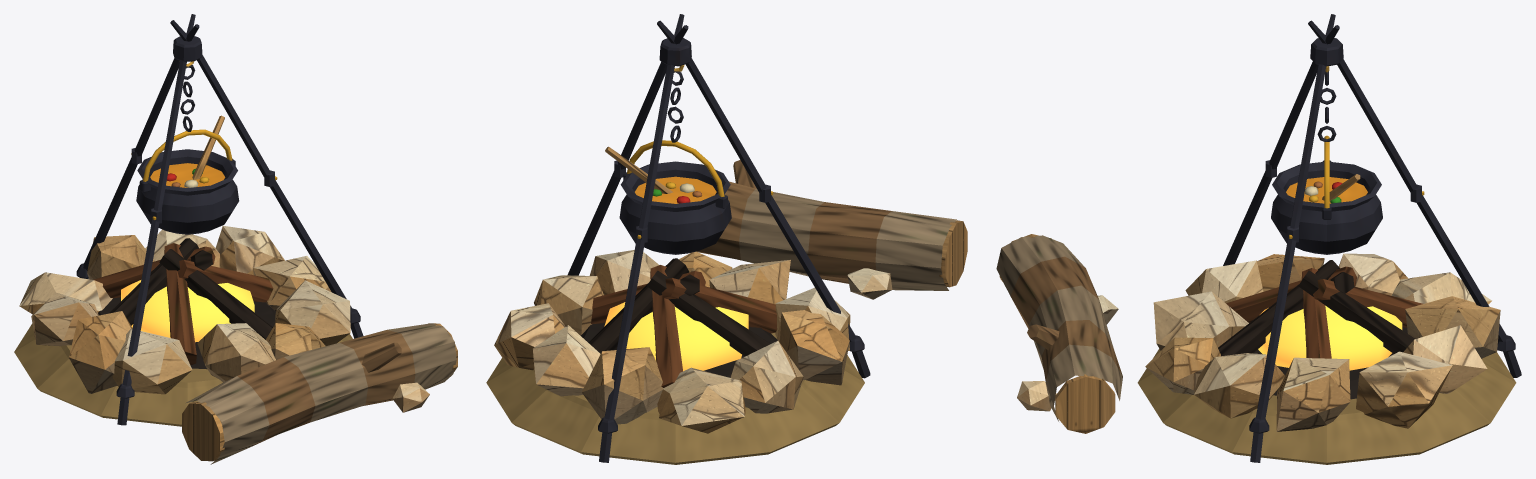
The model's file is campfire.glb.
3 views of the same model, side by side, from view 1: azimuth 30°, elevation 25°; view 2: azimuth 150°, elevation 25°; view 3: azimuth 270°, elevation 25° (orthographic). The views are drawn at different scales.
Parts seen in each view (by area): view 1: Campfire; view 2: Campfire; view 3: Campfire.
Boxes of the visible parts, bbox=[...] form: Campfire: bbox=[14, 14, 457, 464]; Campfire: bbox=[486, 14, 967, 464]; Campfire: bbox=[996, 14, 1521, 464].
Size of the model in its own units: 1.72 by 1.84 by 2.38.
7 materials, 6 textured.
